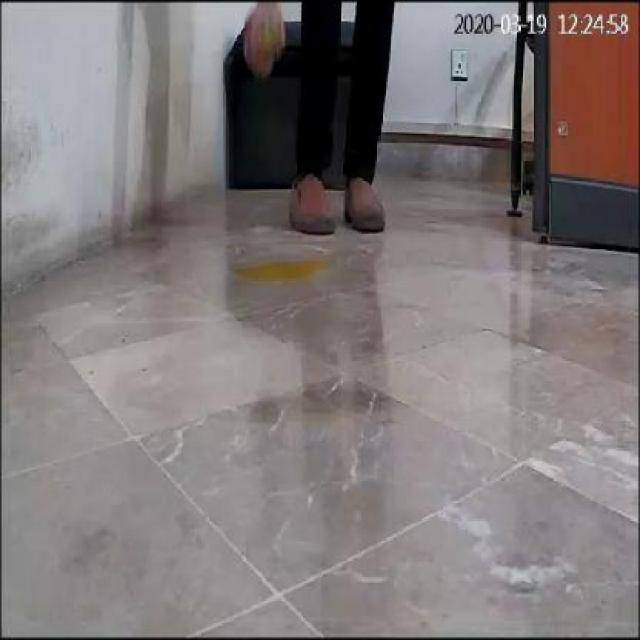spill: (240, 254, 328, 291)
